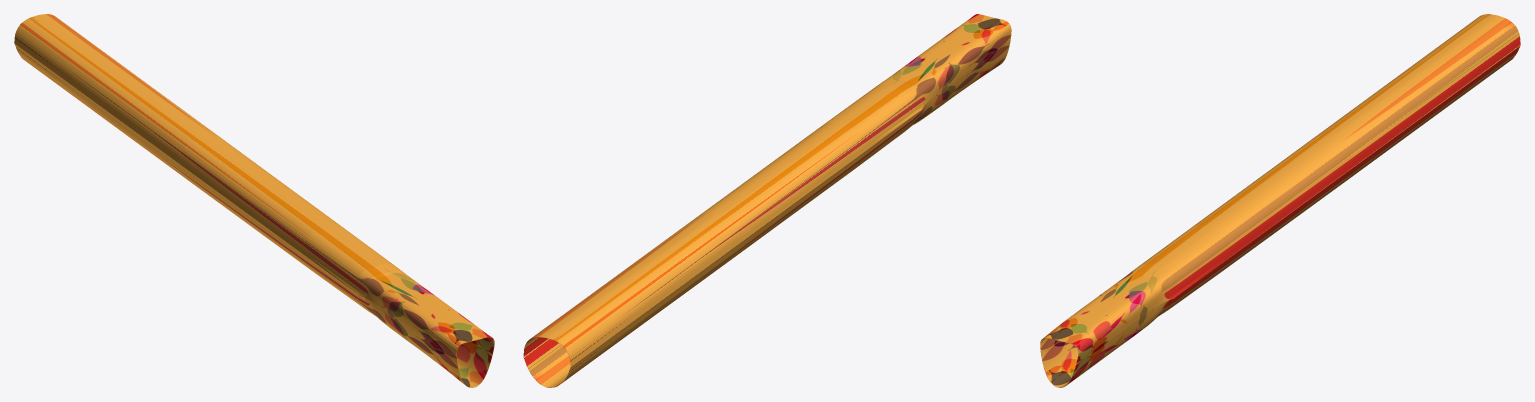
The model's file is sleeveLeaves.glb.
3 renders of one model, left to right at view 1: azimuth 30°, elevation 25°; view 2: azimuth 150°, elevation 25°; view 3: azimuth 330°, elevation 25°, orthographic.
Parts seen in each view (by area): view 1: Sleeve; view 2: Sleeve; view 3: Sleeve.
Part boxes in pixels (x1,y1,x2,y2): Sleeve: (14, 14, 494, 387); Sleeve: (523, 14, 1011, 387); Sleeve: (1040, 14, 1520, 387).
Size of the model in its own units: 2.37 by 2.52 by 38.4.
Materials: 1 (1 with a texture image).
